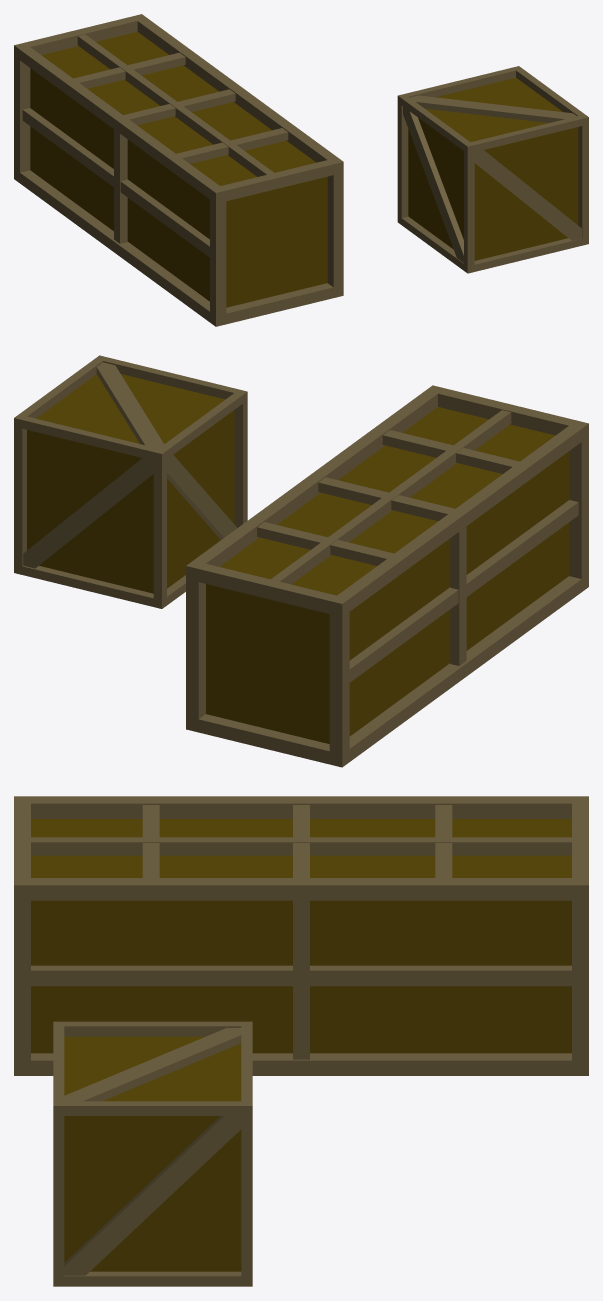
Rendered from mod_crates_&_boxes.fbx.
3 renders of one model, top to bottom at view 1: azimuth 30°, elevation 25°; view 2: azimuth 150°, elevation 25°; view 3: azimuth 270°, elevation 25°, orthographic. The views are drawn at different scales.
Parts seen in each view (by area): view 1: pCube3, pCube18; view 2: pCube3, pCube18; view 3: pCube3, pCube18.
Part boxes in pixels (x1,y1,x2,y2): pCube3: [14, 14, 343, 326]; pCube18: [397, 66, 588, 273]; pCube3: [186, 385, 588, 767]; pCube18: [14, 355, 247, 608]; pCube3: [14, 796, 588, 1075]; pCube18: [53, 1021, 252, 1286].
Bounding box in the file's own units: 6.69 × 2.57 × 6.04.
